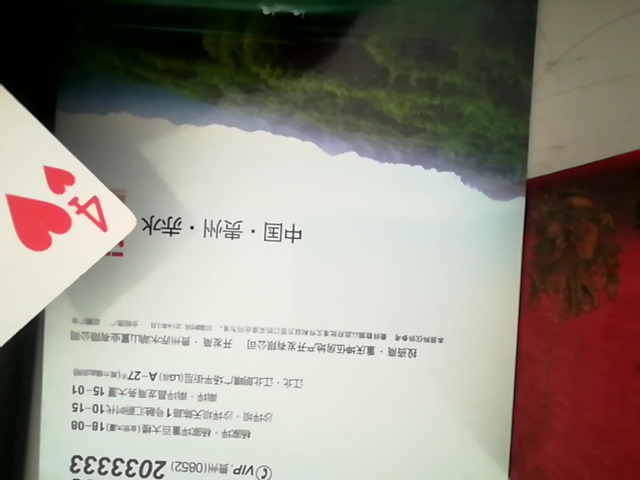hx 4: (1, 24, 142, 392)
